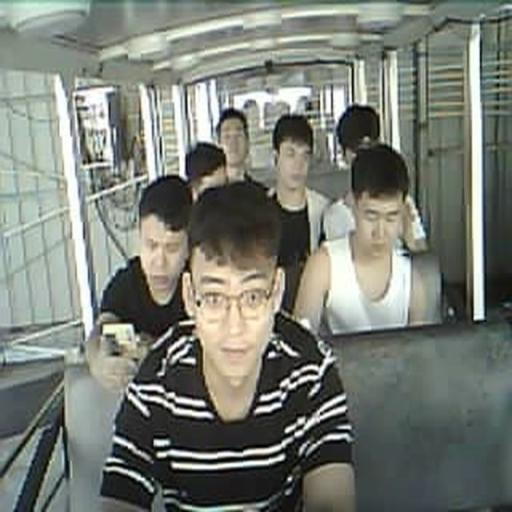persona: (99, 180, 358, 511), (292, 142, 445, 338), (98, 173, 194, 340), (325, 104, 428, 250), (264, 114, 334, 312), (214, 108, 264, 190), (184, 140, 229, 202)
